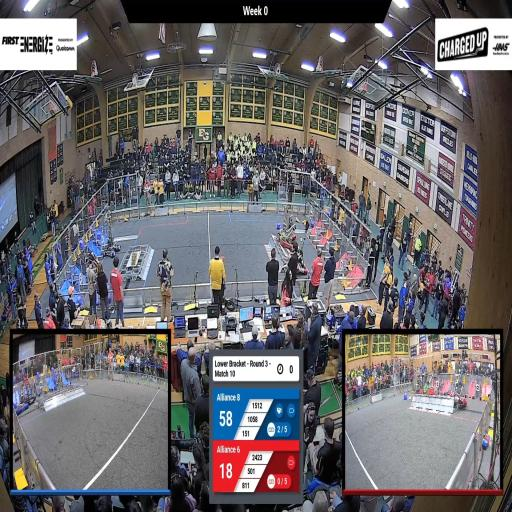robot: (81, 245, 103, 285), (288, 241, 310, 278), (102, 219, 122, 259), (279, 209, 297, 241), (277, 226, 297, 253), (93, 280, 112, 304)
